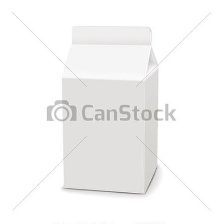carton: (58, 19, 163, 197)
